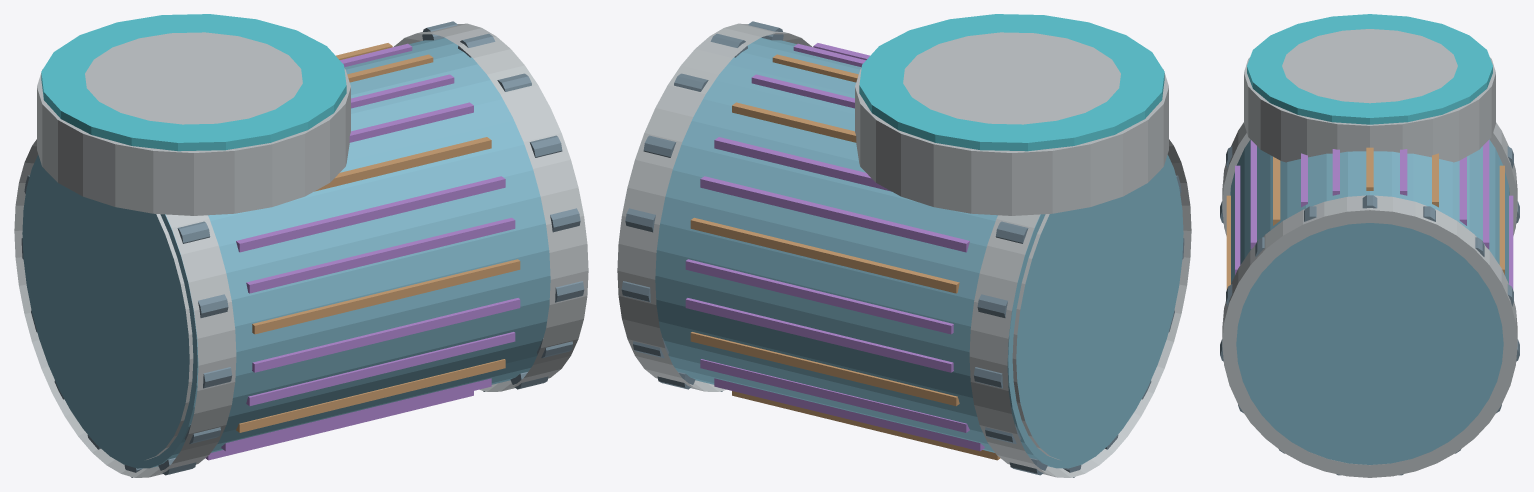
File: 04_L75_IonSourcePlasmaChamber.glb
3 views of the same model, side by side, from view 1: azimuth 30°, elevation 25°; view 2: azimuth 150°, elevation 25°; view 3: azimuth 270°, elevation 25° (orthographic). The views are drawn at different scales.
Parts seen in each view (by area): view 1: IonSourcePlasmaChamber_Node_0000, IonSourcePlasmaChamber_Node_0033, IonSourcePlasmaChamber_Node_0034, IonSourcePlasmaChamber_Node_0002, IonSourcePlasmaChamber_Node_0001, IonSourcePlasmaChamber_Node_0039, IonSourcePlasmaChamber_Node_0040, IonSourcePlasmaChamber_Node_0041, IonSourcePlasmaChamber_Node_0042, IonSourcePlasmaChamber_Node_0043, IonSourcePlasmaChamber_Node_0044, IonSourcePlasmaChamber_Node_0045 (+6 smaller); view 2: IonSourcePlasmaChamber_Node_0000, IonSourcePlasmaChamber_Node_0033, IonSourcePlasmaChamber_Node_0034, IonSourcePlasmaChamber_Node_0002, IonSourcePlasmaChamber_Node_0001, IonSourcePlasmaChamber_Node_0057, IonSourcePlasmaChamber_Node_0056, IonSourcePlasmaChamber_Node_0055, IonSourcePlasmaChamber_Node_0054, IonSourcePlasmaChamber_Node_0053, IonSourcePlasmaChamber_Node_0052, IonSourcePlasmaChamber_Node_0051 (+6 smaller); view 3: IonSourcePlasmaChamber_Node_0000, IonSourcePlasmaChamber_Node_0033, IonSourcePlasmaChamber_Node_0002, IonSourcePlasmaChamber_Node_0034, IonSourcePlasmaChamber_Node_0001, IonSourcePlasmaChamber_Node_0039, IonSourcePlasmaChamber_Node_0057, IonSourcePlasmaChamber_Node_0040, IonSourcePlasmaChamber_Node_0056, IonSourcePlasmaChamber_Node_0038, IonSourcePlasmaChamber_Node_0058, IonSourcePlasmaChamber_Node_0041 (+6 smaller).
Boxes of the visible parts, left/top/right/bottom form: IonSourcePlasmaChamber_Node_0000: left=22, top=37, right=550, bottom=468; IonSourcePlasmaChamber_Node_0033: left=37, top=32, right=350, bottom=215; IonSourcePlasmaChamber_Node_0034: left=41, top=14, right=346, bottom=151; IonSourcePlasmaChamber_Node_0002: left=394, top=23, right=588, bottom=391; IonSourcePlasmaChamber_Node_0001: left=14, top=139, right=236, bottom=477; IonSourcePlasmaChamber_Node_0039: left=236, top=176, right=505, bottom=252; IonSourcePlasmaChamber_Node_0040: left=246, top=217, right=515, bottom=293; IonSourcePlasmaChamber_Node_0041: left=252, top=259, right=520, bottom=334; IonSourcePlasmaChamber_Node_0042: left=252, top=298, right=520, bottom=372; IonSourcePlasmaChamber_Node_0043: left=246, top=332, right=515, bottom=406; IonSourcePlasmaChamber_Node_0044: left=236, top=359, right=505, bottom=432; IonSourcePlasmaChamber_Node_0045: left=221, top=378, right=491, bottom=451; IonSourcePlasmaChamber_Node_0000: left=655, top=37, right=1183, bottom=468; IonSourcePlasmaChamber_Node_0033: left=855, top=32, right=1168, bottom=215; IonSourcePlasmaChamber_Node_0034: left=859, top=14, right=1164, bottom=151; IonSourcePlasmaChamber_Node_0002: left=617, top=23, right=811, bottom=391; IonSourcePlasmaChamber_Node_0001: left=969, top=139, right=1191, bottom=477; IonSourcePlasmaChamber_Node_0057: left=700, top=176, right=969, bottom=252; IonSourcePlasmaChamber_Node_0056: left=690, top=217, right=959, bottom=293; IonSourcePlasmaChamber_Node_0055: left=685, top=259, right=953, bottom=334; IonSourcePlasmaChamber_Node_0054: left=685, top=298, right=953, bottom=372; IonSourcePlasmaChamber_Node_0053: left=690, top=332, right=959, bottom=406; IonSourcePlasmaChamber_Node_0052: left=700, top=359, right=969, bottom=432; IonSourcePlasmaChamber_Node_0051: left=714, top=378, right=984, bottom=451; IonSourcePlasmaChamber_Node_0000: left=1230, top=139, right=1509, bottom=464; IonSourcePlasmaChamber_Node_0033: left=1244, top=29, right=1495, bottom=162; IonSourcePlasmaChamber_Node_0002: left=1222, top=195, right=1517, bottom=477; IonSourcePlasmaChamber_Node_0034: left=1247, top=14, right=1492, bottom=124; IonSourcePlasmaChamber_Node_0001: left=1222, top=122, right=1517, bottom=235; IonSourcePlasmaChamber_Node_0039: left=1250, top=140, right=1256, bottom=249; IonSourcePlasmaChamber_Node_0057: left=1483, top=140, right=1489, bottom=249; IonSourcePlasmaChamber_Node_0040: left=1235, top=165, right=1240, bottom=274; IonSourcePlasmaChamber_Node_0056: left=1499, top=165, right=1504, bottom=274; IonSourcePlasmaChamber_Node_0038: left=1273, top=156, right=1280, bottom=225; IonSourcePlasmaChamber_Node_0058: left=1459, top=156, right=1466, bottom=225; IonSourcePlasmaChamber_Node_0041: left=1226, top=195, right=1230, bottom=289.
Size of the model in its own units: 1.39 by 1.1 by 1.02.
